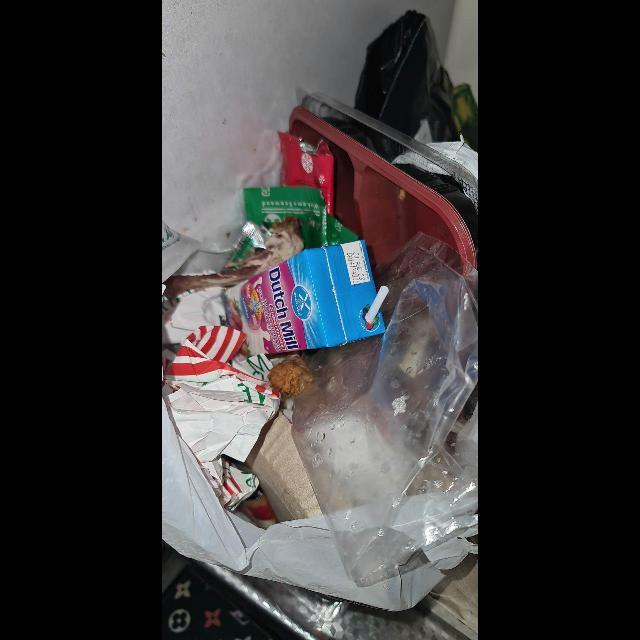left_over_food: (163, 217, 305, 308), (271, 358, 315, 399)
paper: (164, 326, 282, 512)
plastic_bag: (292, 235, 479, 589)
plastic_sachet: (243, 133, 359, 250)
